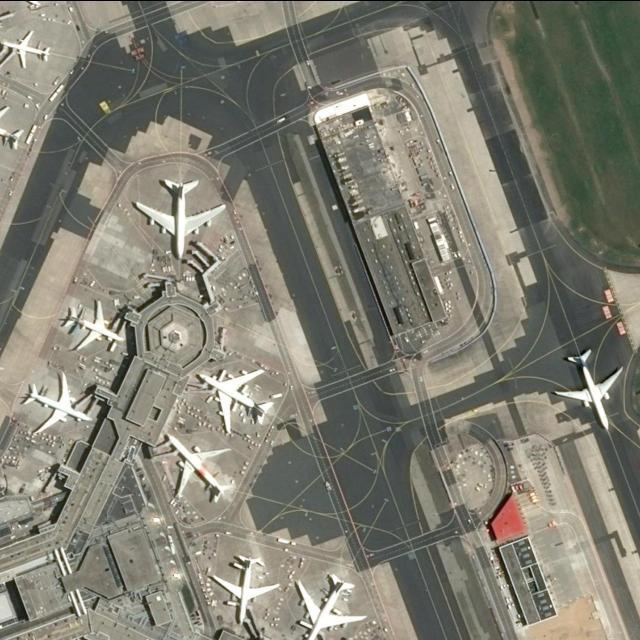Aircraft: (135, 177, 225, 260), (555, 348, 623, 431), (157, 434, 233, 503), (195, 369, 275, 433), (211, 554, 279, 626), (296, 574, 368, 640), (22, 372, 91, 435), (61, 300, 123, 351), (0, 29, 50, 68), (1, 105, 23, 157)
